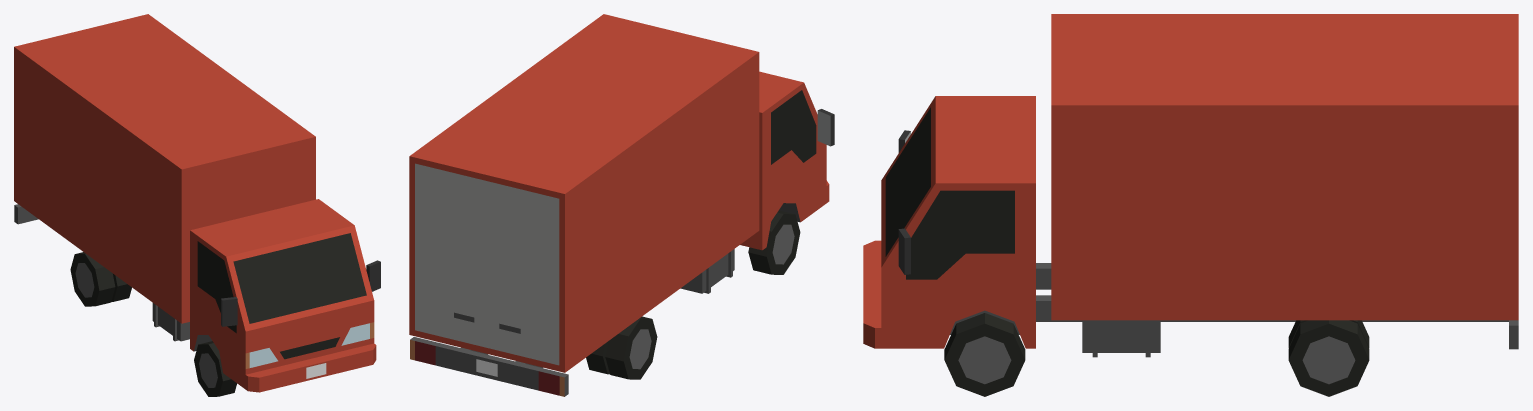
The model's file is Veh_Truck_02_Red.glb.
3 renders of one model, left to right at view 1: azimuth 30°, elevation 25°; view 2: azimuth 150°, elevation 25°; view 3: azimuth 270°, elevation 25°, orthographic. The views are drawn at different scales.
Visible parts, largest first — view 1: Truck_02_Red, Wheel_RR, Wheel_FR; view 2: Truck_02_Red, Wheel_RR, Wheel_FR; view 3: Truck_02_Red, Wheel_RL, Wheel_FL.
Boxes of the visible parts, x1,y1,x2,y2 form: Truck_02_Red: (14, 14, 380, 392); Wheel_RR: (70, 252, 131, 306); Wheel_FR: (194, 341, 236, 396); Truck_02_Red: (409, 14, 834, 396); Wheel_RR: (586, 316, 657, 379); Wheel_FR: (748, 210, 800, 274); Truck_02_Red: (863, 14, 1518, 357); Wheel_RL: (1288, 320, 1369, 396); Wheel_FL: (944, 313, 1025, 396).
Bounding box in the file's own units: 1.27 × 1.61 × 3.26.
1 material, 1 textured.
